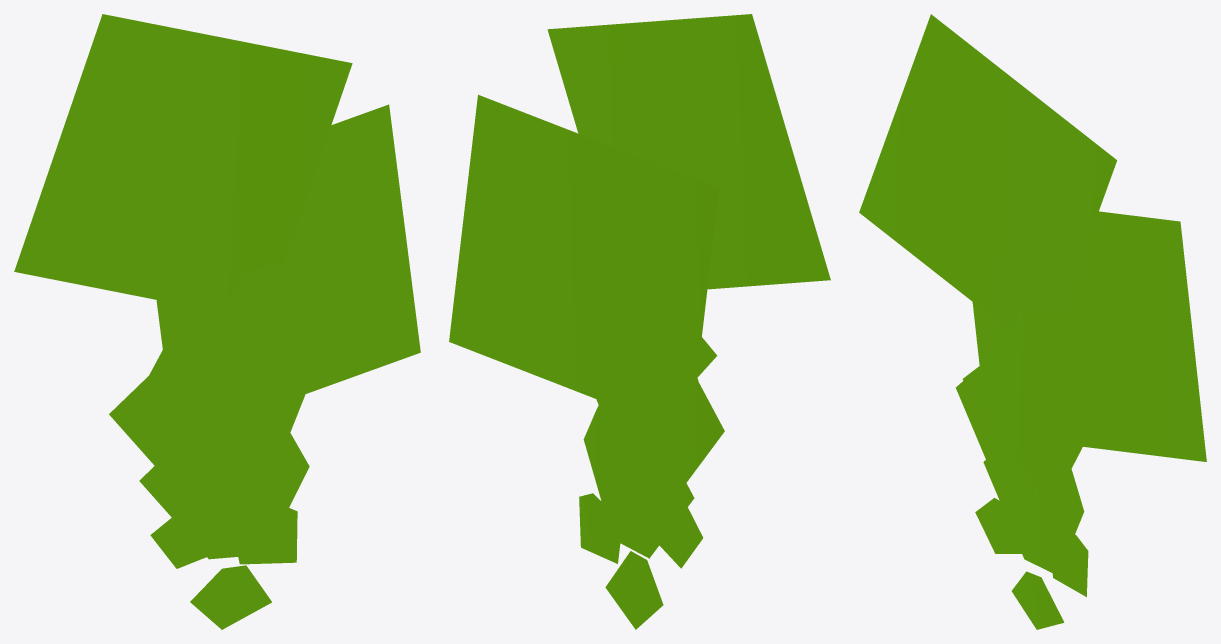
Rendered from vine2.glb.
The picture shows the model from 3 angles, left to right: view 1: azimuth 30°, elevation 25°; view 2: azimuth 150°, elevation 25°; view 3: azimuth 330°, elevation 25°; orthographic projection. The views are drawn at different scales.
Parts seen in each view (by area): view 1: Prop_Vine4; view 2: Prop_Vine4; view 3: Prop_Vine4.
Part boxes in pixels (x1,y1,x2,y2): Prop_Vine4: [14, 14, 420, 629]; Prop_Vine4: [449, 14, 830, 629]; Prop_Vine4: [859, 14, 1206, 629].
Size of the model in its own units: 1.02 by 1.59 by 0.15.
